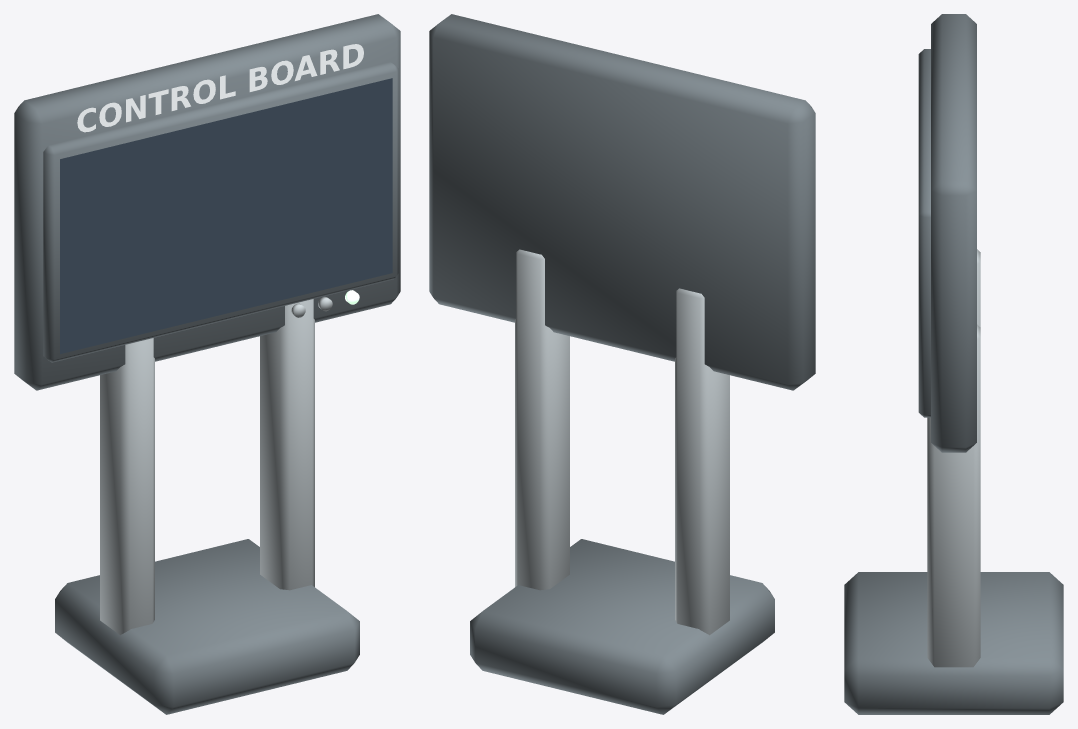
The model's file is control_board_standard.glb.
The picture shows the model from 3 angles, left to right: view 1: azimuth 30°, elevation 25°; view 2: azimuth 150°, elevation 25°; view 3: azimuth 270°, elevation 25°; orthographic projection. The views are drawn at different scales.
Parts seen in each view (by area): view 1: LiveViewSurface_glass, DisplayHousing_frame, Base_frame, Support_steel, LiveViewSurfaceFrame_frame, TypeLabel_white; view 2: DisplayHousing_frame, Support_steel, Base_frame; view 3: Base_frame, DisplayHousing_frame, Support_steel, LiveViewSurfaceFrame_frame.
Part boxes in pixels (<box>): LiveViewSurface_glass: <box>60,78,392,353</box>; DisplayHousing_frame: <box>14,14,400,390</box>; Base_frame: <box>55,539,359,714</box>; Support_steel: <box>100,299,314,635</box>; LiveViewSurfaceFrame_frame: <box>43,62,398,362</box>; TypeLabel_white: <box>77,44,363,132</box>; DisplayHousing_frame: <box>429,14,815,390</box>; Support_steel: <box>515,249,729,635</box>; Base_frame: <box>470,539,774,714</box>; Base_frame: <box>844,572,1063,714</box>; DisplayHousing_frame: <box>931,14,976,452</box>; Support_steel: <box>927,249,980,667</box>; LiveViewSurfaceFrame_frame: <box>918,49,930,417</box>.
Size of the model in its own units: 1.18 by 1.79 by 0.62.
